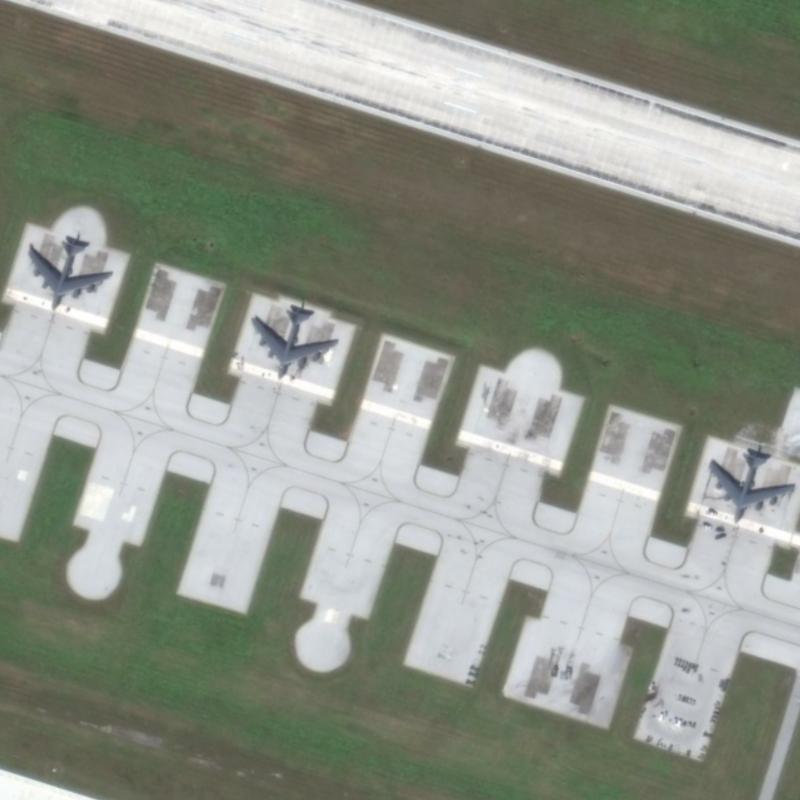A8: (246, 303, 342, 384), (705, 445, 796, 525), (26, 236, 114, 312)
